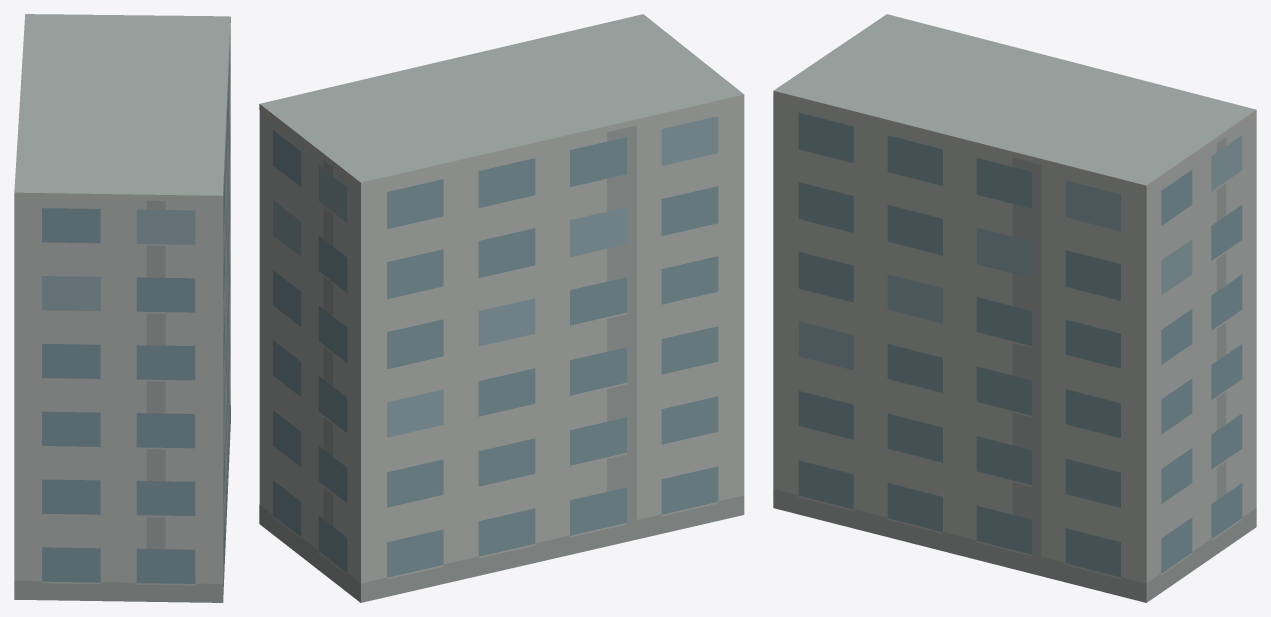
File: survey-upis-32981691.glb
The picture shows the model from 3 angles, left to right: view 1: azimuth 30°, elevation 25°; view 2: azimuth 150°, elevation 25°; view 3: azimuth 270°, elevation 25°; orthographic projection. The views are drawn at different scales.
Parts seen in each view (by area): view 1: survey-upis-32981691.tmp; view 2: survey-upis-32981691.tmp; view 3: survey-upis-32981691.tmp.
Part boxes in pixels (x1,y1,x2,y2): survey-upis-32981691.tmp: (14,14,230,602); survey-upis-32981691.tmp: (259,14,744,602); survey-upis-32981691.tmp: (773,14,1256,602).
Size of the model in its own units: 14.51 by 16.45 by 17.28.
